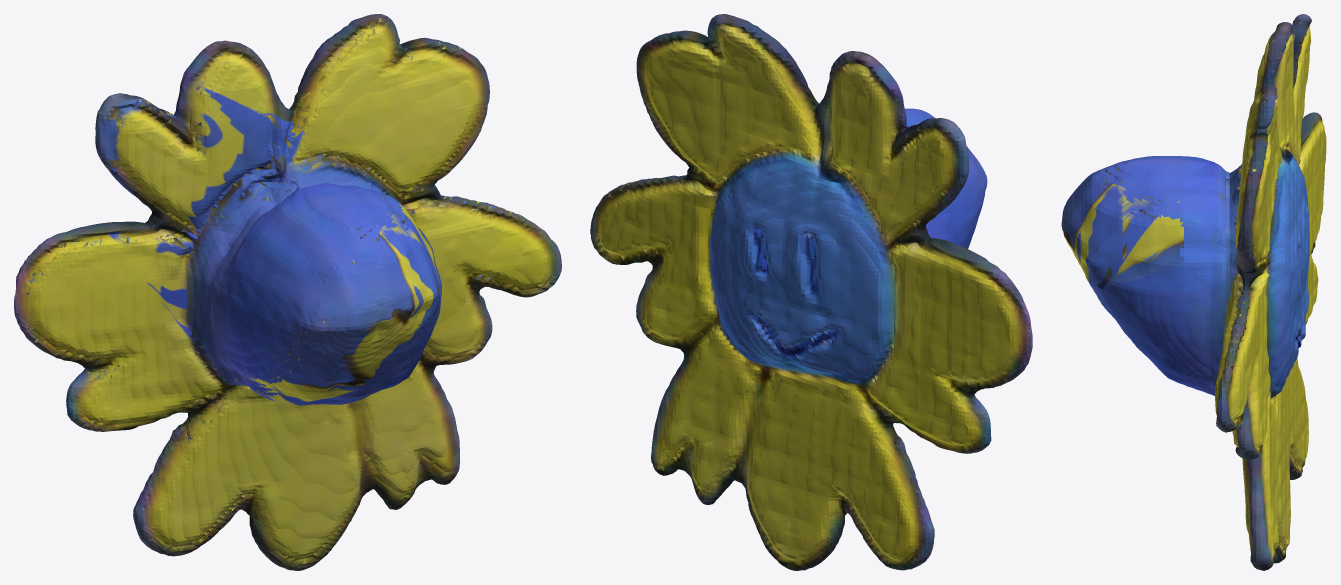
3 renders of one model, left to right at view 1: azimuth 30°, elevation 25°; view 2: azimuth 150°, elevation 25°; view 3: azimuth 270°, elevation 25°, orthographic. The views are drawn at different scales.
Parts seen in each view (by area): view 1: geometry_0; view 2: geometry_0; view 3: geometry_0.
Part boxes in pixels (x1,y1,x2,y2): geometry_0: [14, 14, 561, 570]; geometry_0: [590, 14, 1032, 570]; geometry_0: [1061, 14, 1326, 570].
Bounding box in the file's own units: 0.9519 × 0.9925 × 0.4737.
1 material, 1 textured.
